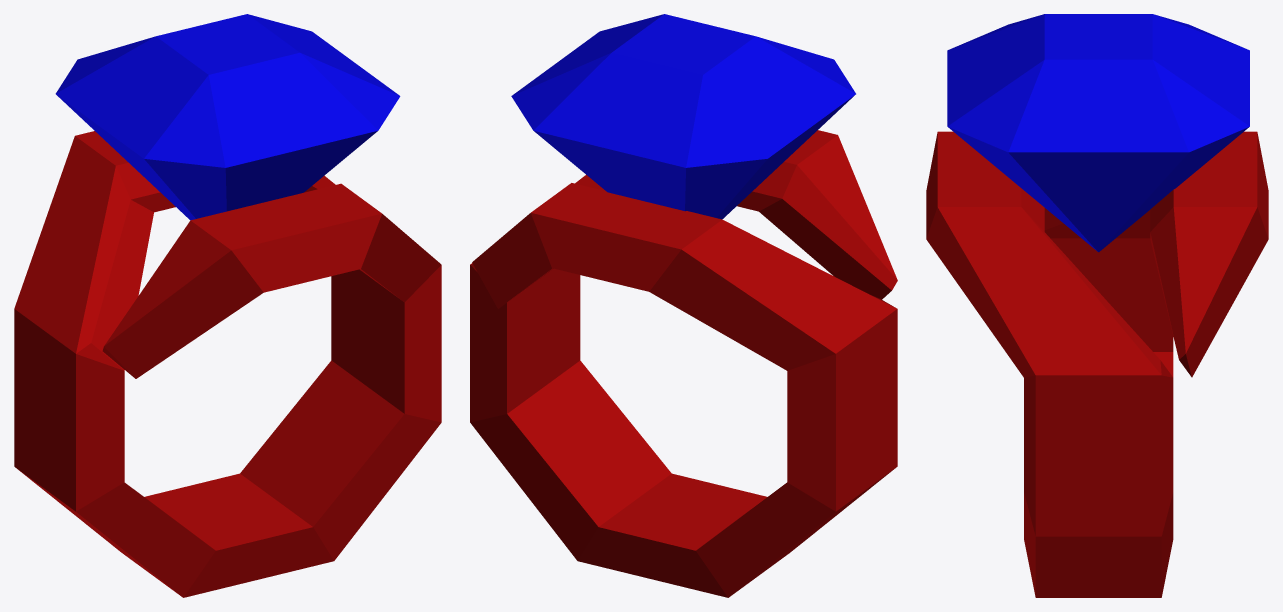
File: Ring_05.fbx
The picture shows the model from 3 angles, left to right: view 1: azimuth 30°, elevation 25°; view 2: azimuth 150°, elevation 25°; view 3: azimuth 270°, elevation 25°; orthographic projection. The views are drawn at different scales.
Parts seen in each view (by area): view 1: SM_Item_Ring_05; view 2: SM_Item_Ring_05; view 3: SM_Item_Ring_05.
Part boxes in pixels (x1=…): SM_Item_Ring_05: x1=14, y1=14, x2=441, y2=597; SM_Item_Ring_05: x1=470, y1=14, x2=897, y2=597; SM_Item_Ring_05: x1=926, y1=14, x2=1268, y2=597.
Bounding box in the file's own units: 5.07 × 6.79 × 4.02.
